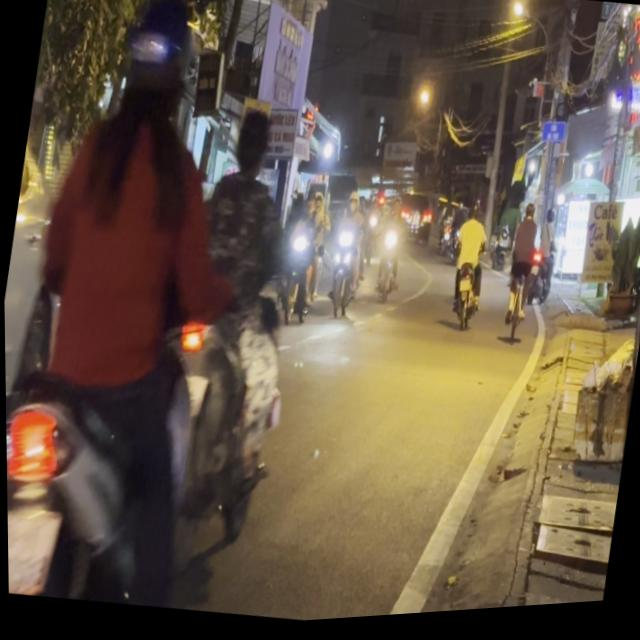helmet: (109, 0, 201, 133)
licenseplate: (0, 0, 308, 621), (135, 91, 331, 620)
motorcyclist: (226, 103, 274, 180)
nohelmet: (6, 498, 59, 597)
